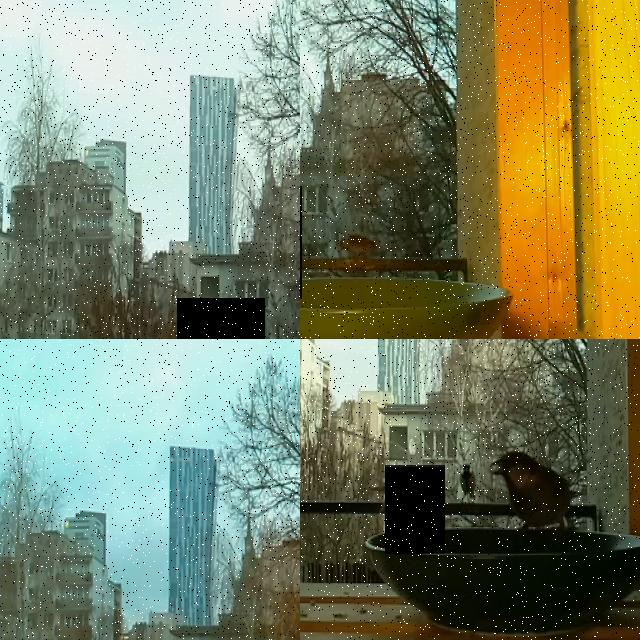Wrobel: (488, 448, 576, 534), (385, 466, 445, 554), (177, 298, 265, 339)
